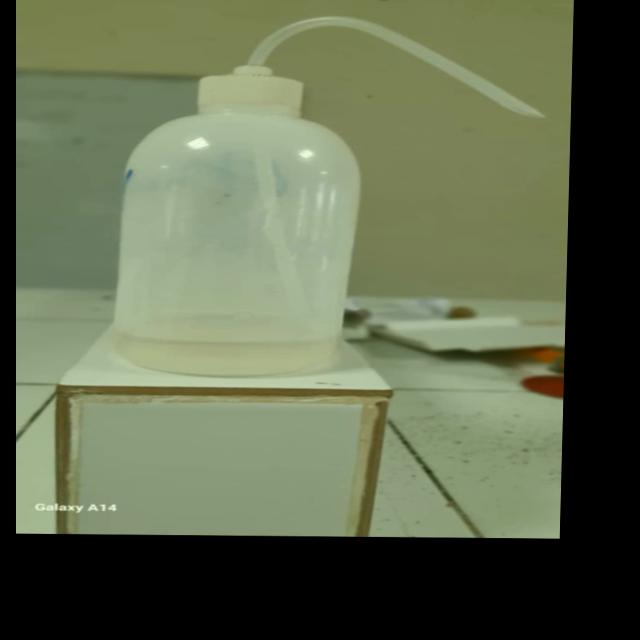Washing Bottle: (97, 1, 544, 377)
